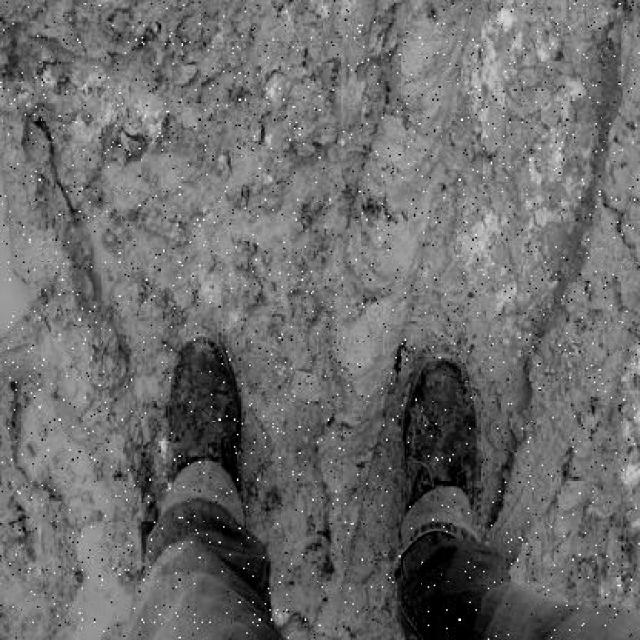shoes: (166, 337, 242, 485), (399, 358, 475, 498)
